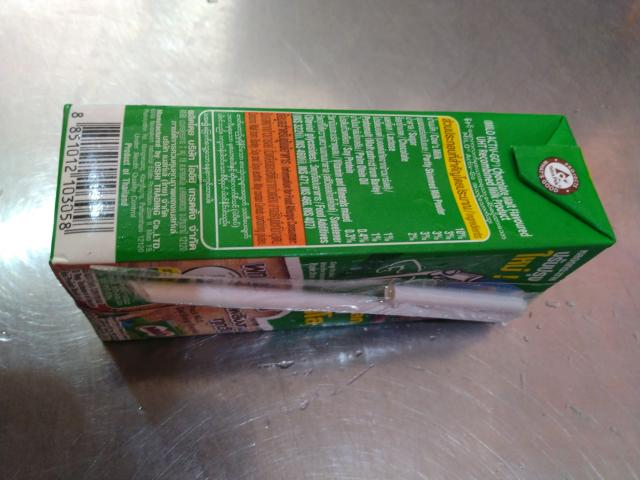drink_box: (43, 89, 625, 348)
